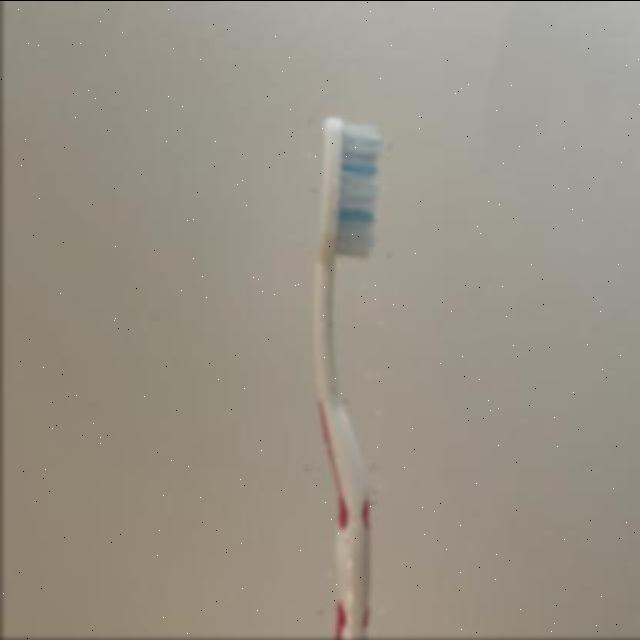toothbrush: (299, 102, 391, 640)
